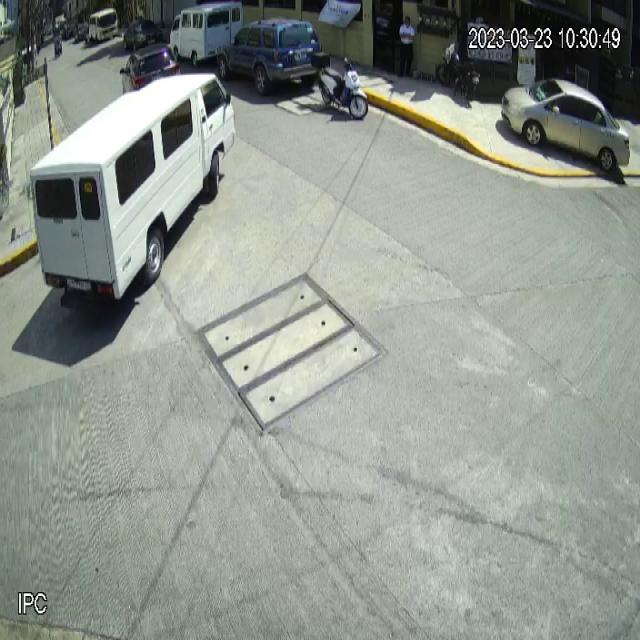Car: (501, 77, 632, 176), (215, 14, 322, 97)
Motorcycle: (311, 51, 369, 120)
Van: (28, 73, 237, 314), (169, 0, 243, 68)
